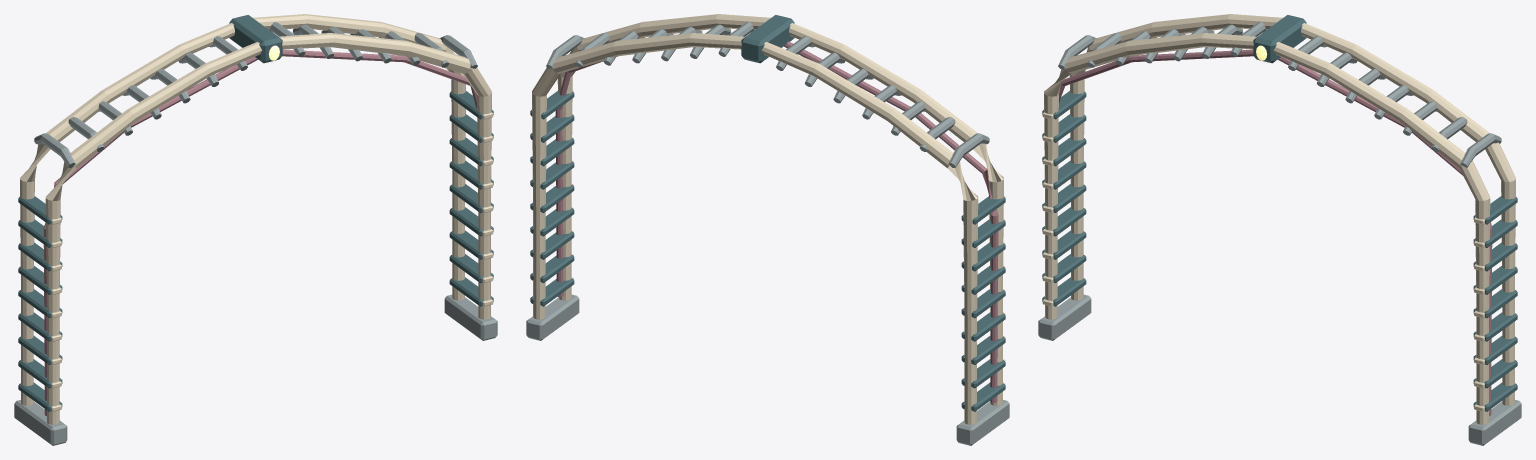
Rendered from vault_span.glb.
The picture shows the model from 3 angles, left to right: view 1: azimuth 30°, elevation 25°; view 2: azimuth 150°, elevation 25°; view 3: azimuth 330°, elevation 25°; orthographic projection.
Visible parts, largest first — view 1: vault_span_warm, vault_span_petrol, vault_span_worn, vault_span_bruised; view 2: vault_span_warm, vault_span_petrol, vault_span_worn, vault_span_bruised; view 3: vault_span_warm, vault_span_petrol, vault_span_worn, vault_span_bruised.
Part boxes in pixels (x1,y1,x2,y2): vault_span_warm: (20, 14, 493, 424); vault_span_petrol: (18, 15, 493, 411); vault_span_worn: (14, 22, 497, 445); vault_span_bruised: (43, 49, 477, 415); vault_span_warm: (532, 14, 1005, 424); vault_span_petrol: (530, 15, 1005, 411); vault_span_worn: (526, 22, 1009, 445); vault_span_bruised: (555, 41, 998, 402); vault_span_warm: (1042, 14, 1515, 424); vault_span_petrol: (1042, 15, 1517, 411); vault_span_worn: (1038, 22, 1521, 445); vault_span_bruised: (1059, 49, 1492, 415).
Bounding box in the file's own units: 8 × 6 × 1.2.
